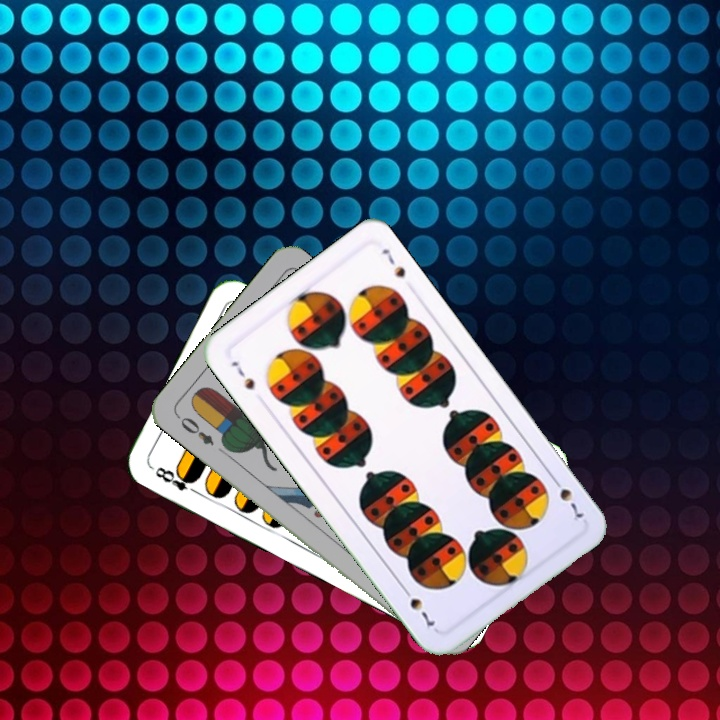E8: (151, 462, 202, 497)
EO: (172, 411, 217, 448)
S7: (547, 472, 588, 524), (226, 357, 257, 394)
